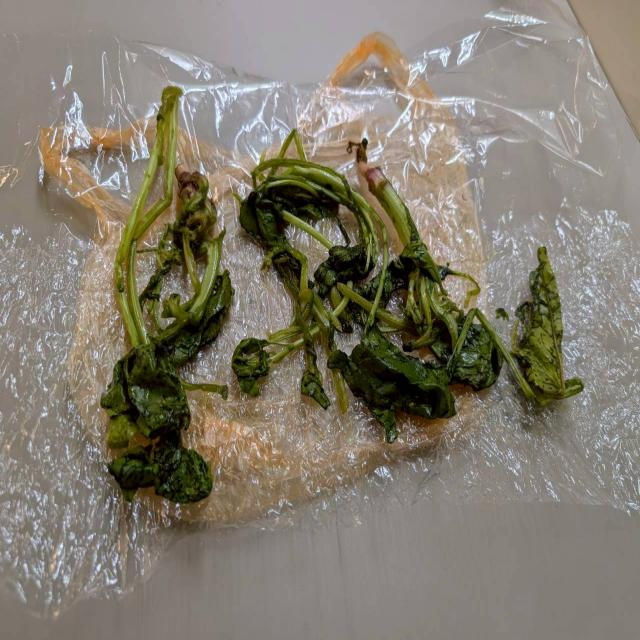rotten spinach: (103, 85, 602, 482), (146, 172, 561, 375), (92, 39, 232, 531), (240, 118, 410, 441), (356, 113, 499, 454), (476, 224, 582, 433)
